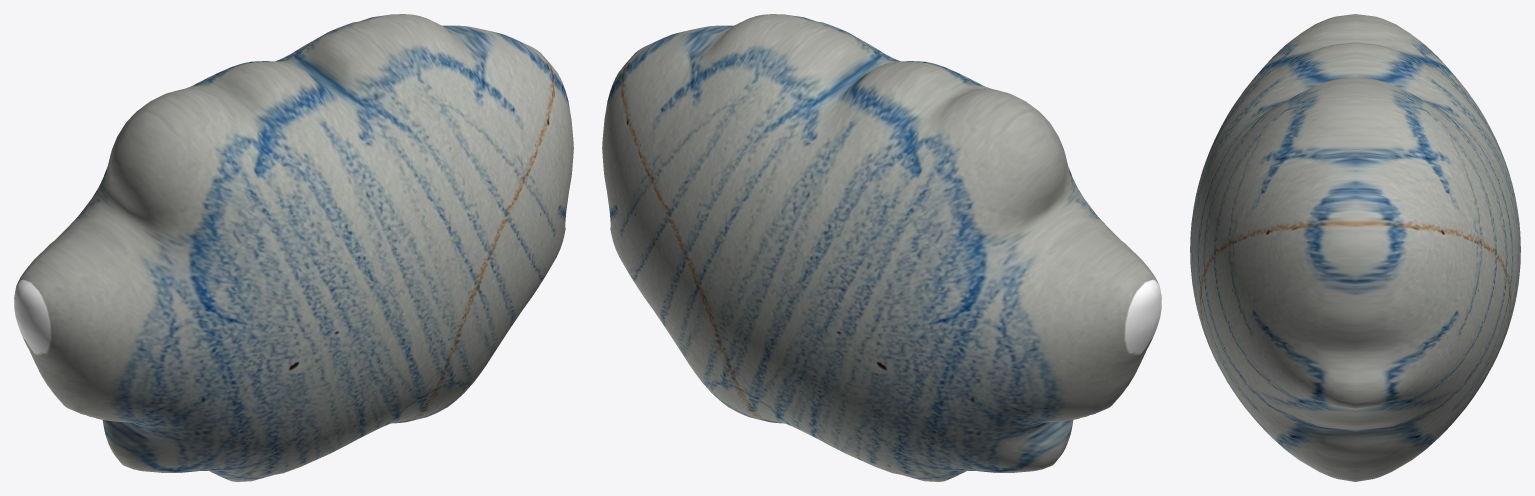
The model's file is 김미경_구름.glb.
The picture shows the model from 3 angles, left to right: view 1: azimuth 30°, elevation 25°; view 2: azimuth 150°, elevation 25°; view 3: azimuth 270°, elevation 25°; orthographic projection. The views are drawn at different scales.
Bounding box in the file's own units: 5.15 × 3.75 × 2.82.
1 material, 1 textured.
